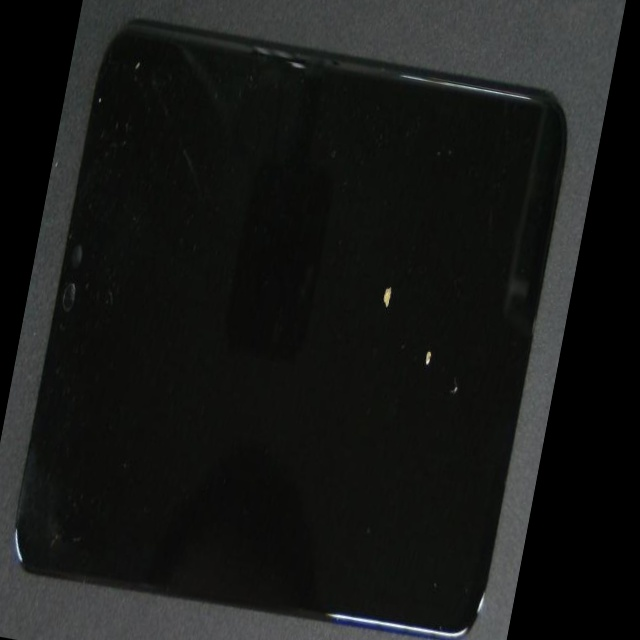stain: (207, 82, 600, 527), (190, 41, 590, 458)
